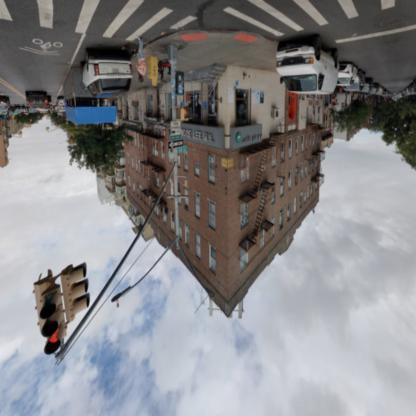Streetlights 1: (107, 21, 219, 312)
